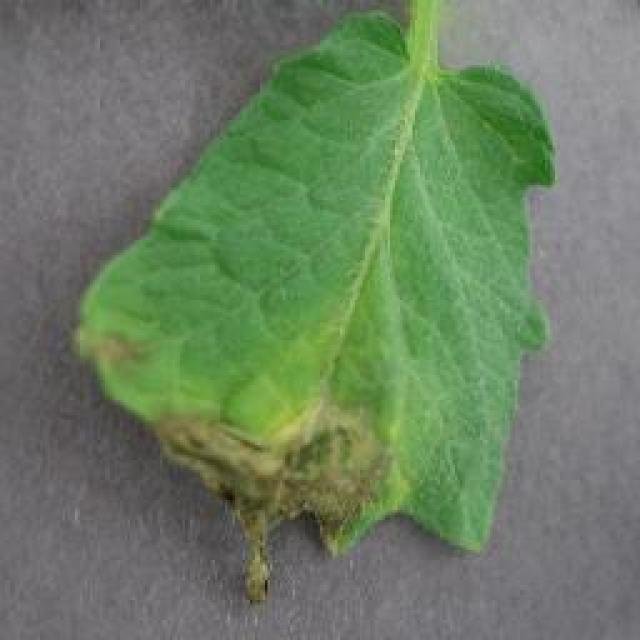Tomato late blight leaf: (69, 0, 562, 582)
